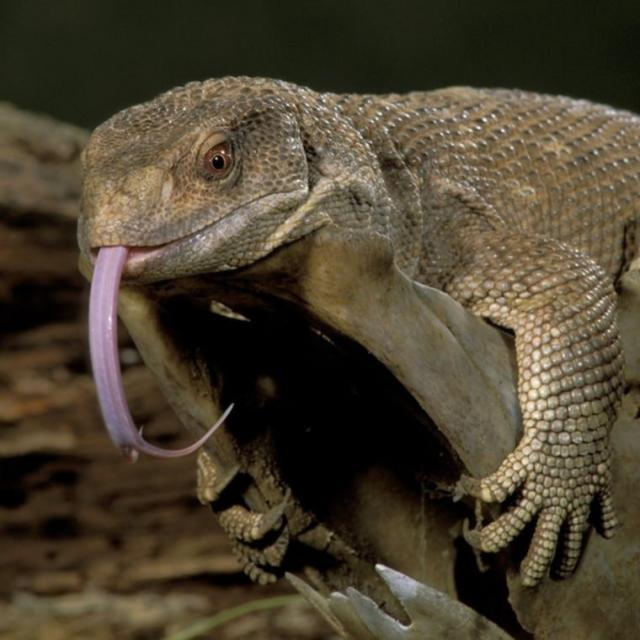Lizard: (73, 72, 640, 585)
